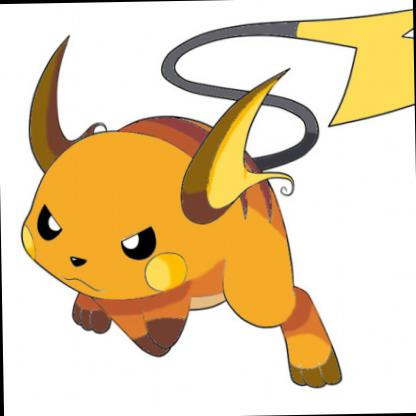Raichu: (1, 5, 398, 416)
